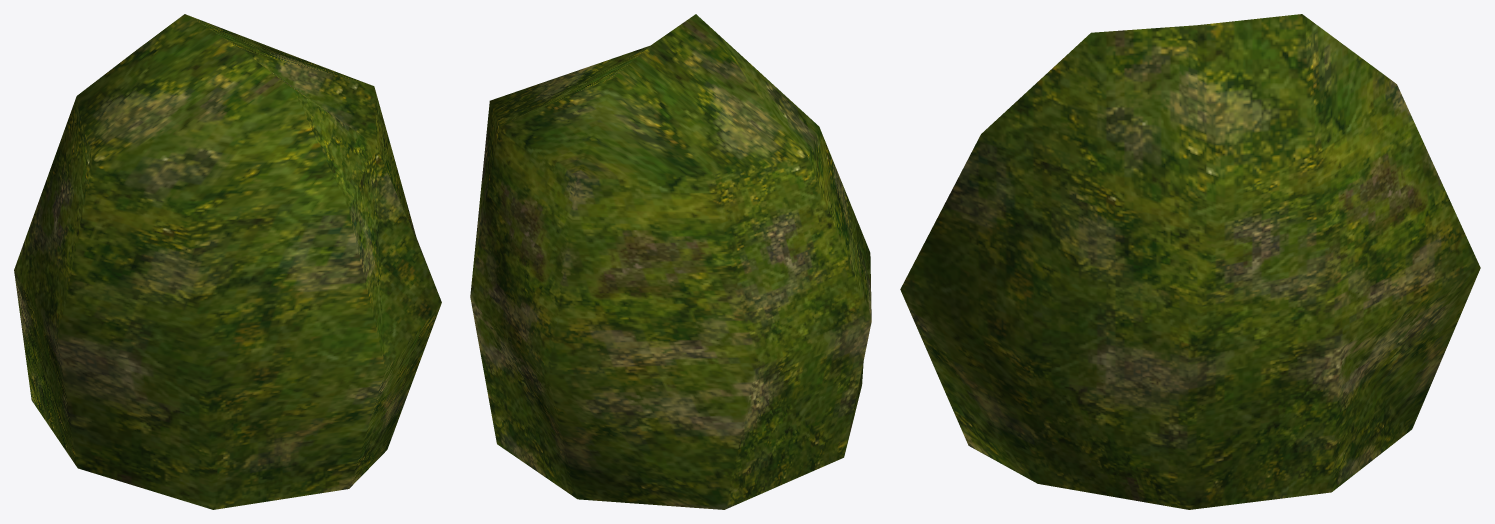
The model's file is OVERHILL_A_01_ROCK203.fbx.
3 renders of one model, left to right at view 1: azimuth 30°, elevation 25°; view 2: azimuth 150°, elevation 25°; view 3: azimuth 270°, elevation 25°, orthographic. The views are drawn at different scales.
Parts seen in each view (by area): view 1: OVERHILL_A_01_ROCK203; view 2: OVERHILL_A_01_ROCK203; view 3: OVERHILL_A_01_ROCK203.
Part boxes in pixels (box(x1,y1,x2,y2)): OVERHILL_A_01_ROCK203: box(14, 14, 441, 509); OVERHILL_A_01_ROCK203: box(470, 14, 871, 509); OVERHILL_A_01_ROCK203: box(900, 14, 1480, 509).
Bounding box in the file's own units: 11327 × 10892 × 13575.
1 material, 1 textured.
